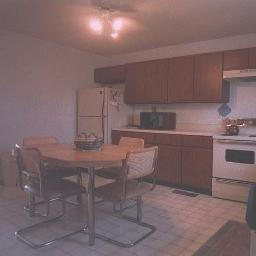Electrodomestico: (212, 134, 255, 201), (78, 88, 109, 140)
